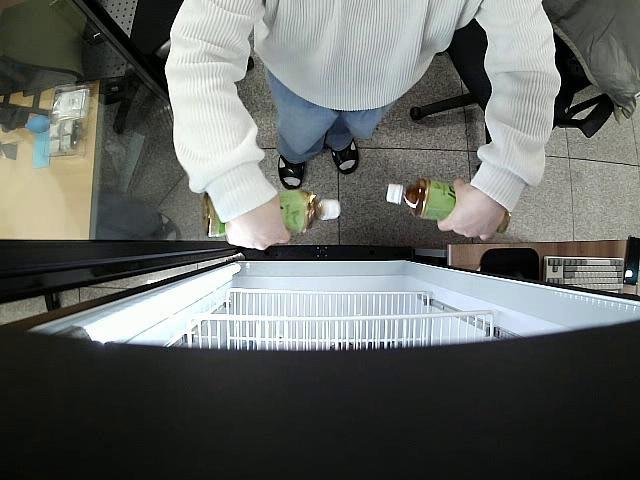19_17cha: (385, 175, 511, 238), (202, 192, 341, 240)
